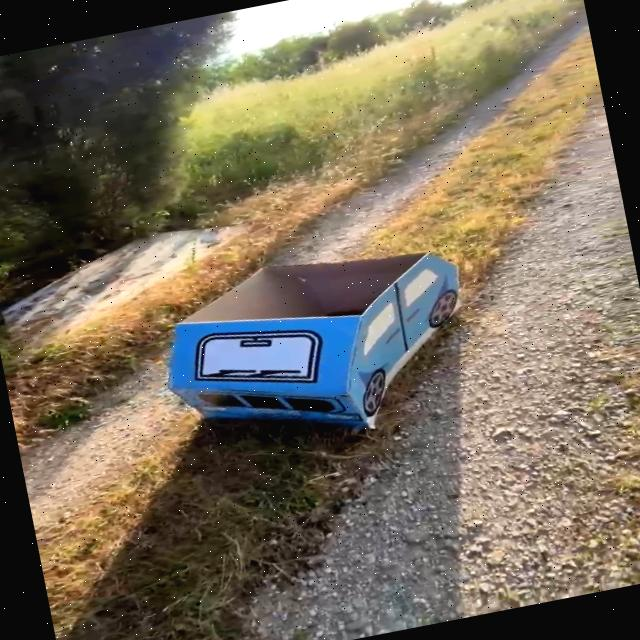blue_car: (81, 201, 546, 499)
